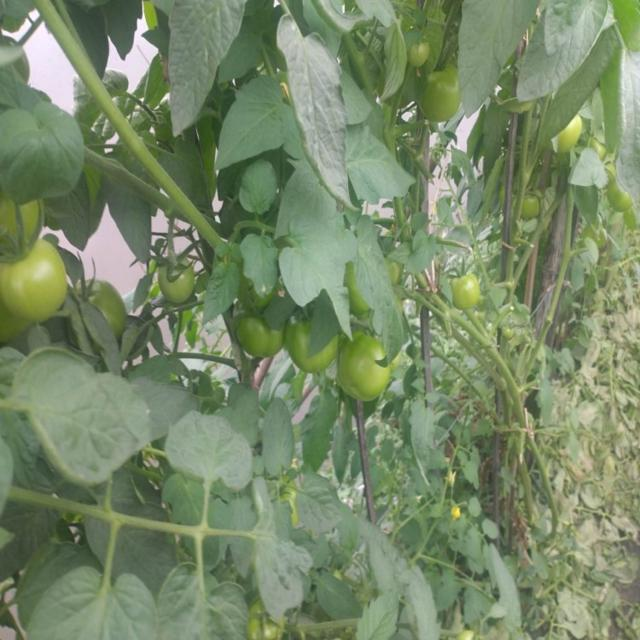tomato: (7, 243, 73, 317), (344, 332, 392, 397), (88, 276, 135, 338), (287, 323, 338, 375), (425, 66, 465, 131), (1, 279, 34, 348), (4, 192, 44, 247), (237, 312, 283, 353), (161, 258, 193, 305), (547, 111, 579, 154), (448, 273, 484, 310), (251, 599, 278, 640), (520, 192, 545, 223), (607, 185, 631, 214), (600, 155, 617, 188), (411, 36, 429, 66), (623, 209, 636, 226)
